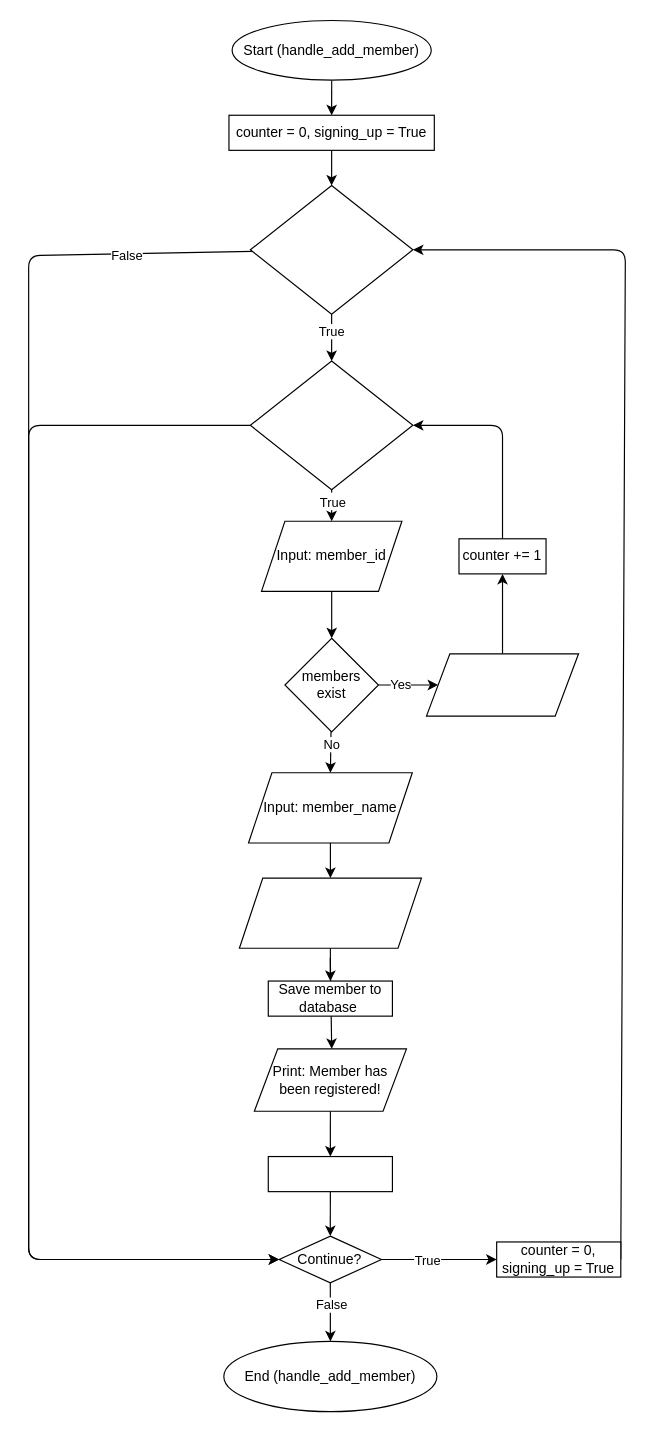
Some shapes in this 655 by 1432 pixel diagram are drawn without their labels. Each missing label, with the centre of its shape:
counter < MAX_ATTEMPTS: the point at 331,425
if singing_up == True: the point at 331,249
Input: member_contact: the point at 329,912
Print: Member is already registered!: the point at 502,684
signing_up = False: the point at 329,1173
